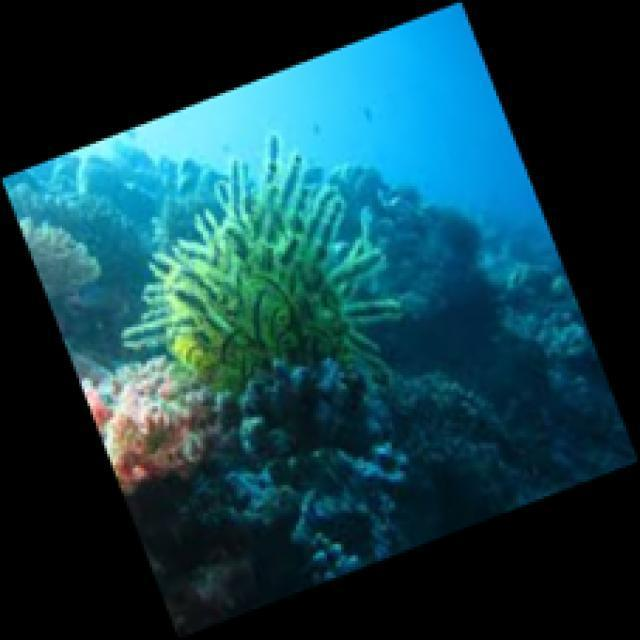Healthy: (122, 137, 404, 400), (77, 358, 206, 496)
